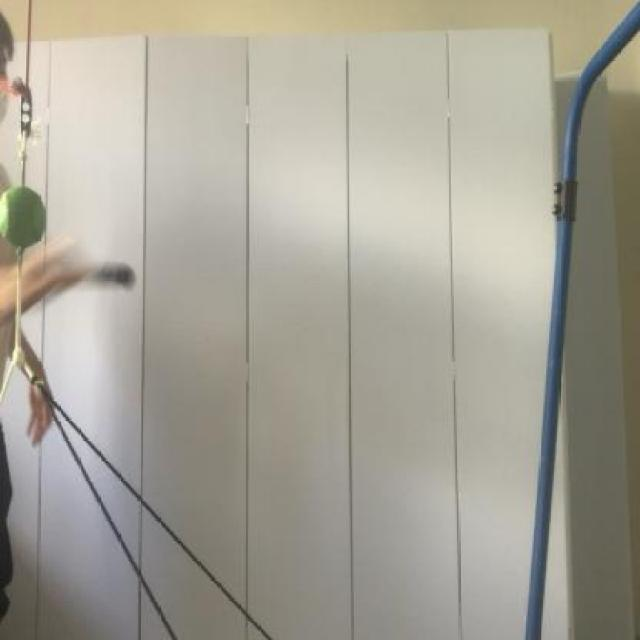baseball: (0, 175, 51, 254)
